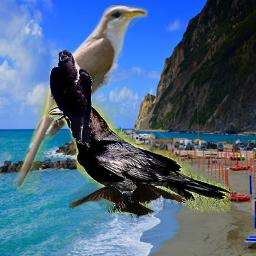Crow: (45, 99, 231, 213), (69, 182, 186, 223), (49, 49, 93, 145)
Cuckoo: (11, 5, 148, 194)
